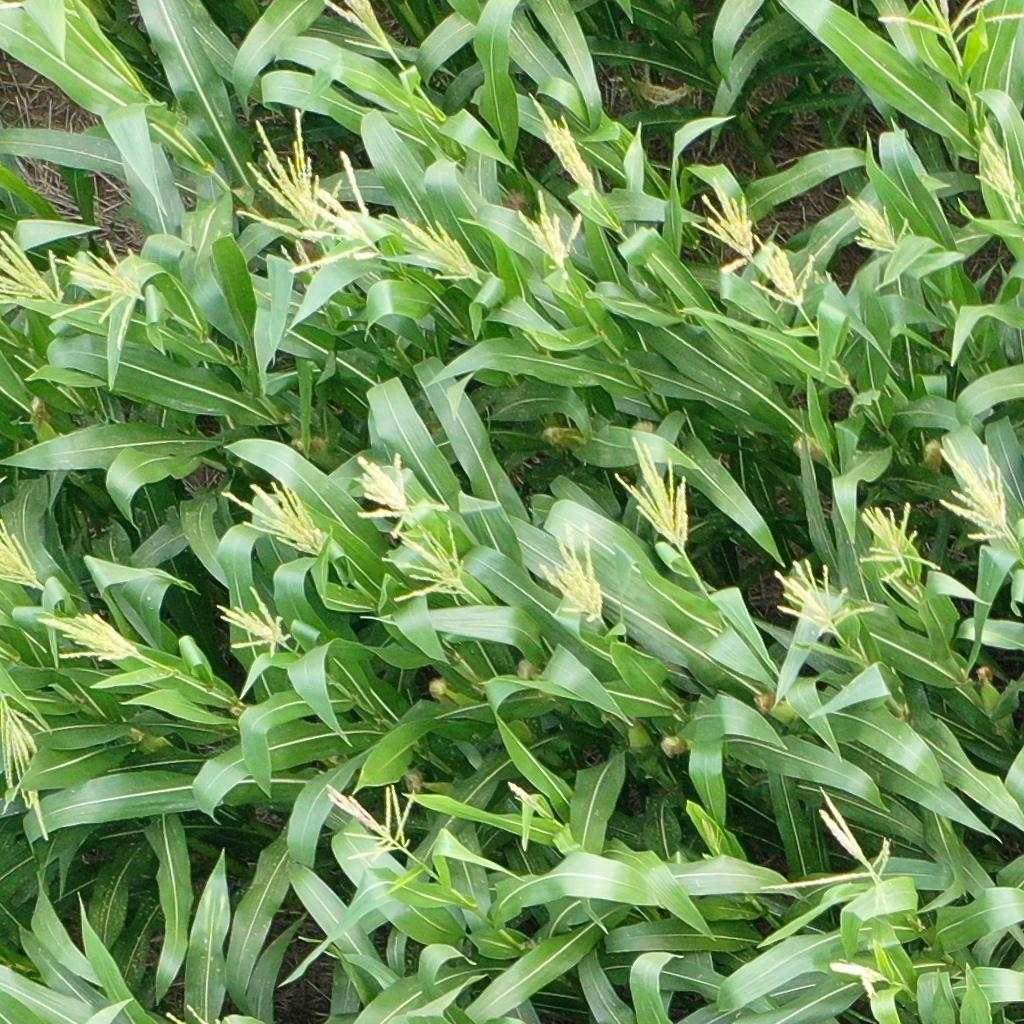Tassel: (757, 787, 900, 905), (227, 106, 342, 240), (292, 147, 384, 274), (51, 238, 151, 347), (874, 1, 1024, 69), (613, 435, 693, 553), (216, 479, 330, 559), (352, 449, 452, 540), (931, 437, 1016, 544), (1, 689, 57, 843), (770, 559, 875, 640), (320, 779, 419, 864), (527, 91, 603, 200), (379, 520, 474, 606), (536, 519, 610, 620), (857, 498, 947, 581), (35, 602, 138, 666), (396, 215, 485, 286), (214, 583, 297, 659), (515, 185, 584, 270), (688, 174, 758, 257), (743, 231, 816, 308), (969, 113, 1024, 213), (1, 227, 69, 307), (845, 190, 913, 258), (319, 1, 398, 52), (1, 513, 42, 591), (827, 954, 896, 995), (506, 779, 551, 823), (165, 1003, 234, 1024), (700, 819, 732, 856)
